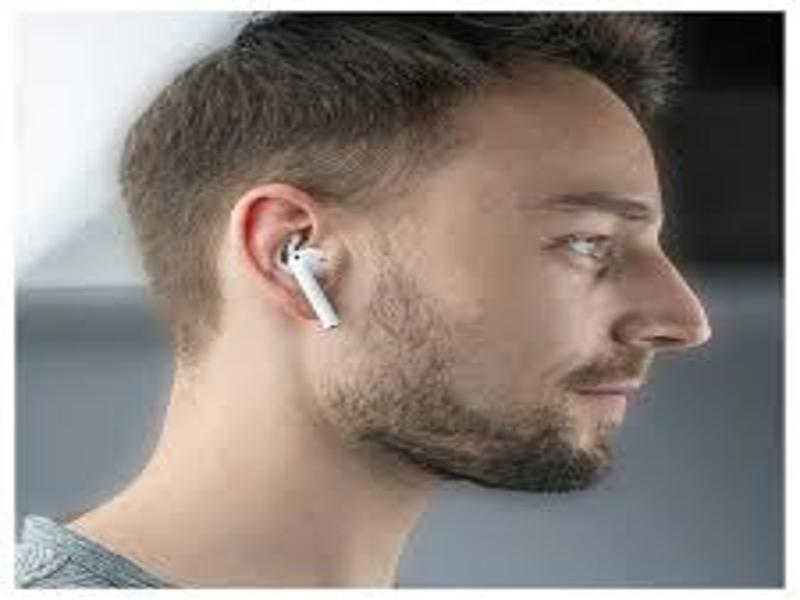headphone: (277, 234, 342, 329)
